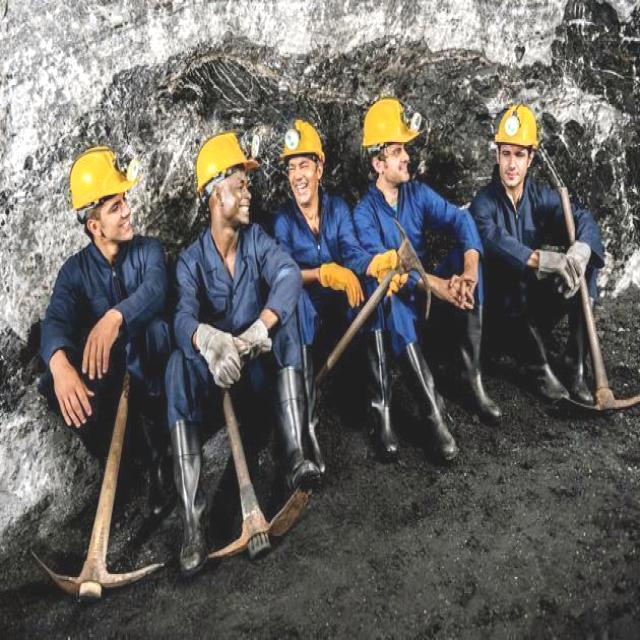face_nomask: (98, 190, 140, 248), (212, 170, 256, 222), (376, 141, 418, 183), (494, 143, 528, 192), (287, 157, 317, 200)
hand_glove: (532, 242, 592, 298), (196, 316, 240, 388), (316, 258, 365, 310), (231, 308, 273, 363), (367, 248, 404, 302)
hand_noglove: (50, 353, 95, 429), (82, 312, 121, 378), (442, 274, 479, 315)
head_helmet: (69, 148, 134, 198), (362, 98, 418, 147), (196, 133, 257, 176), (282, 120, 327, 160), (499, 104, 537, 146)
person: (358, 89, 484, 448), (468, 96, 596, 420), (44, 142, 162, 432), (174, 131, 298, 396), (275, 113, 360, 470)
shoes: (399, 334, 472, 470), (168, 430, 212, 579), (273, 373, 325, 491), (359, 333, 404, 467), (453, 320, 506, 424), (516, 325, 574, 413)
